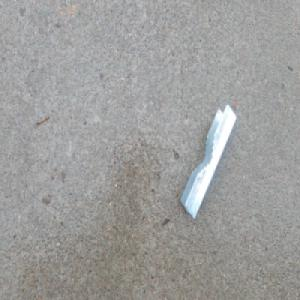ClampPart: (178, 101, 235, 221)
